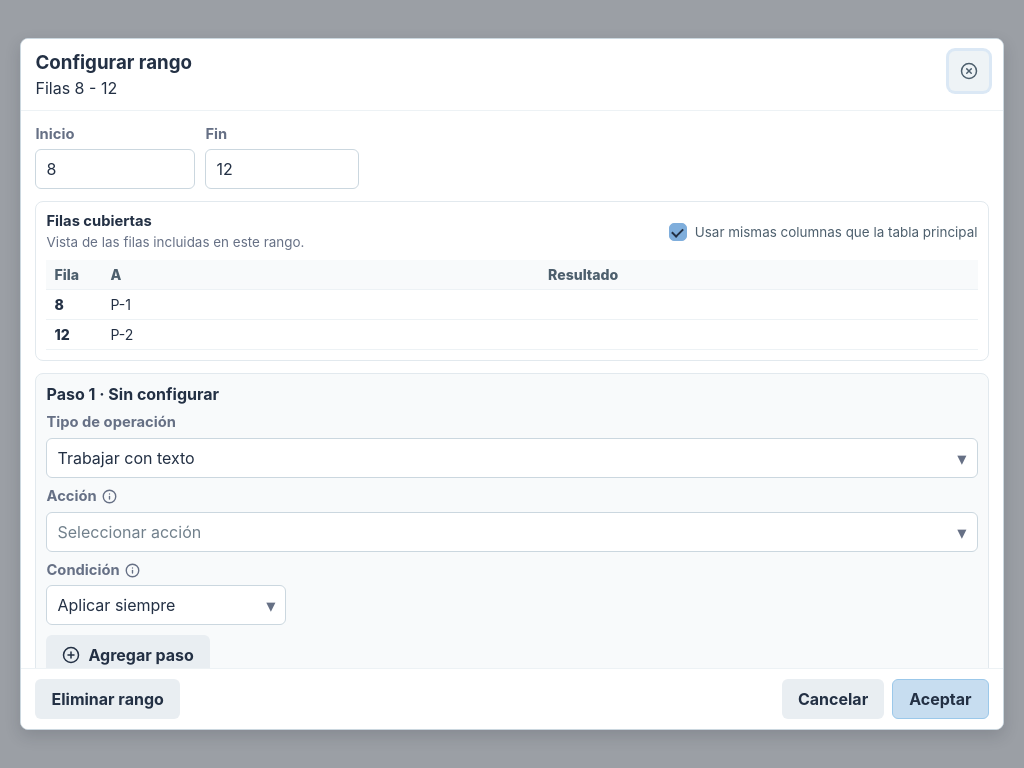
Test case: ManualRangeAdvancedRangeModal validation › keeps texto encontrado as the visible action after selecting a found range value
Click the button "Seleccionar acción ▾" at (129, 532), box [46,512,978,552]
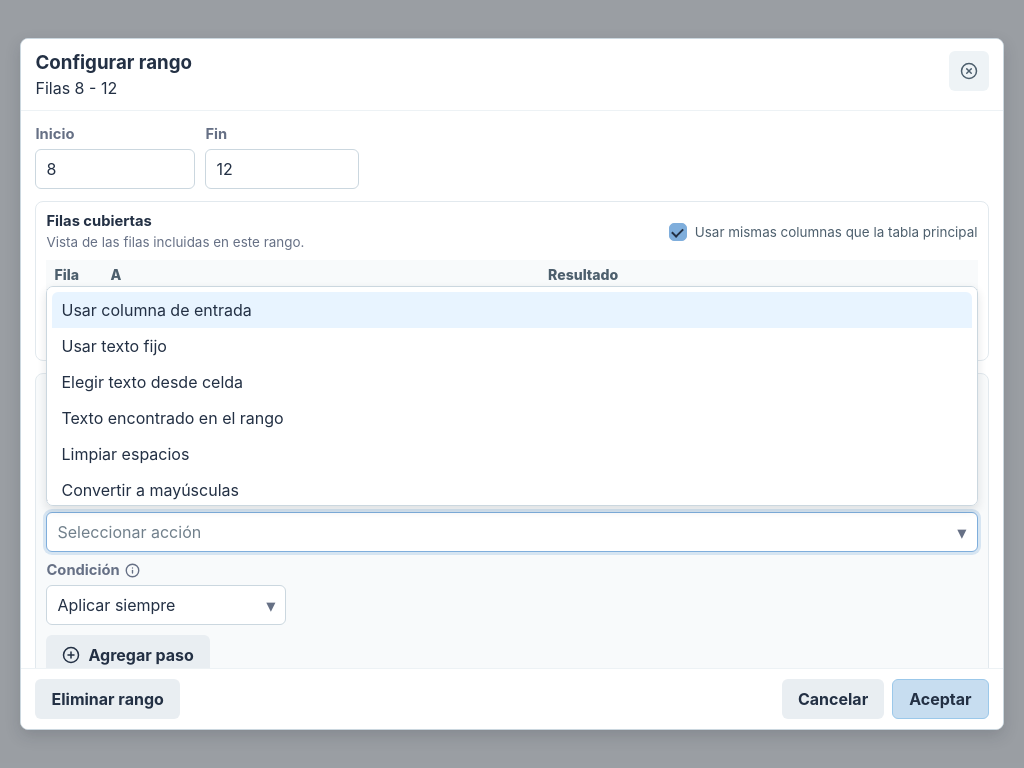
Click the option "Texto encontrado en el rango" at (173, 418), box [52,400,972,436]
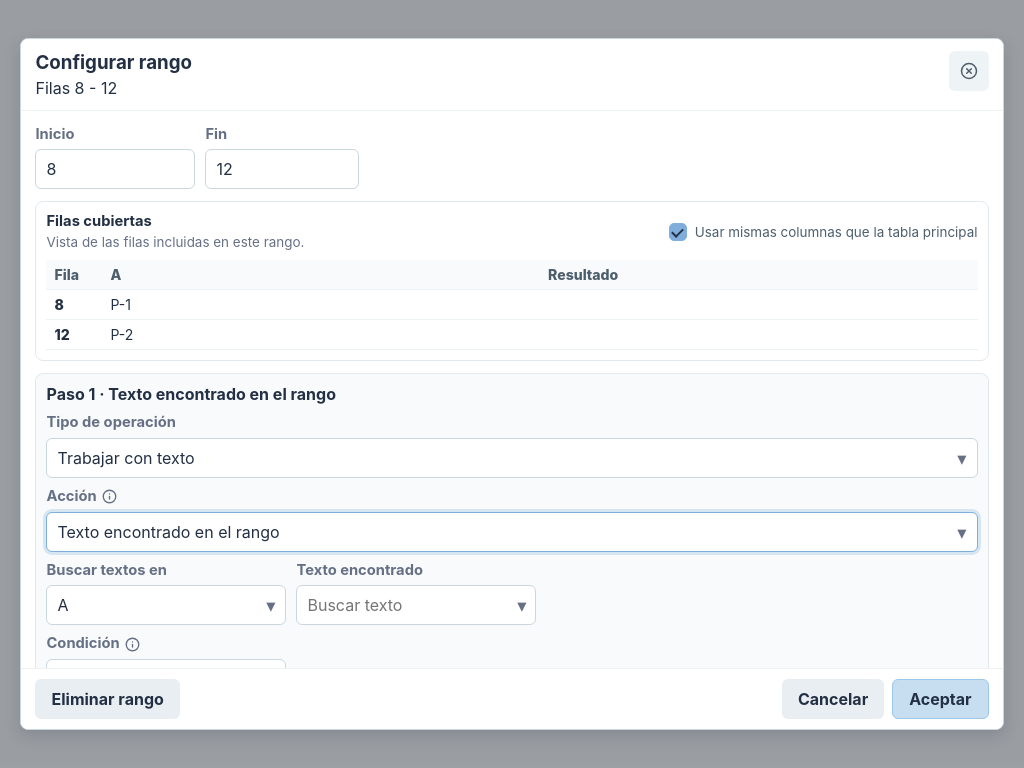
Click the dropdown labelled "Texto encontrado" at (416, 605), box [296,585,536,625]
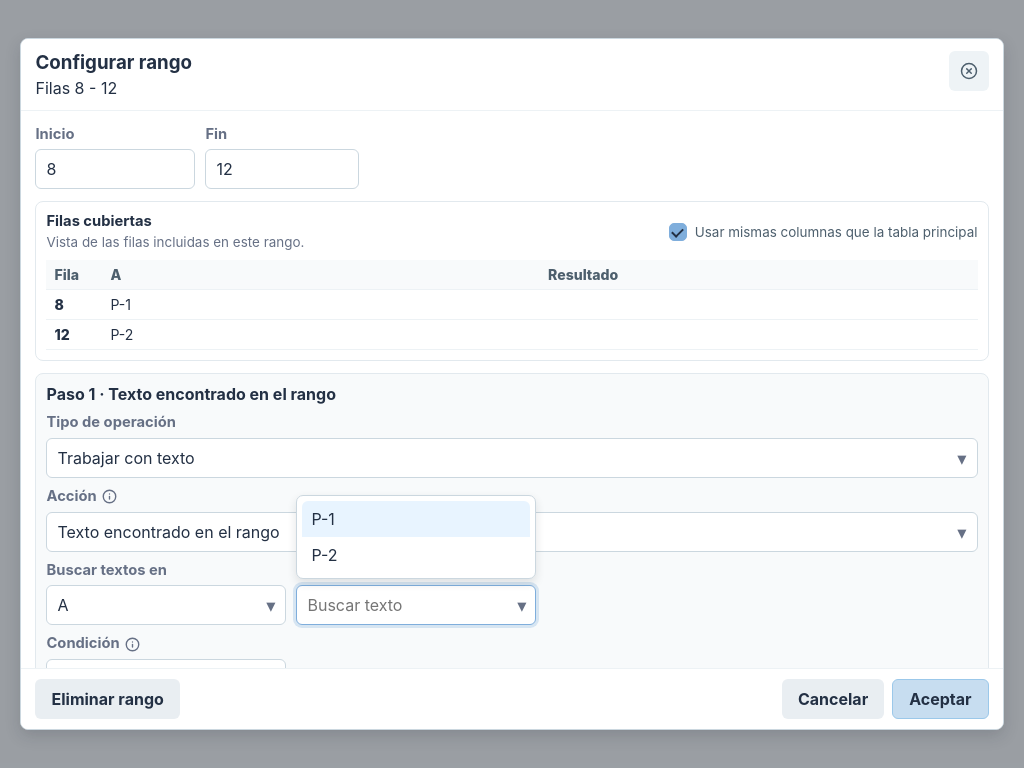
Click the option "P-1" at (416, 519), box [302,501,530,537]
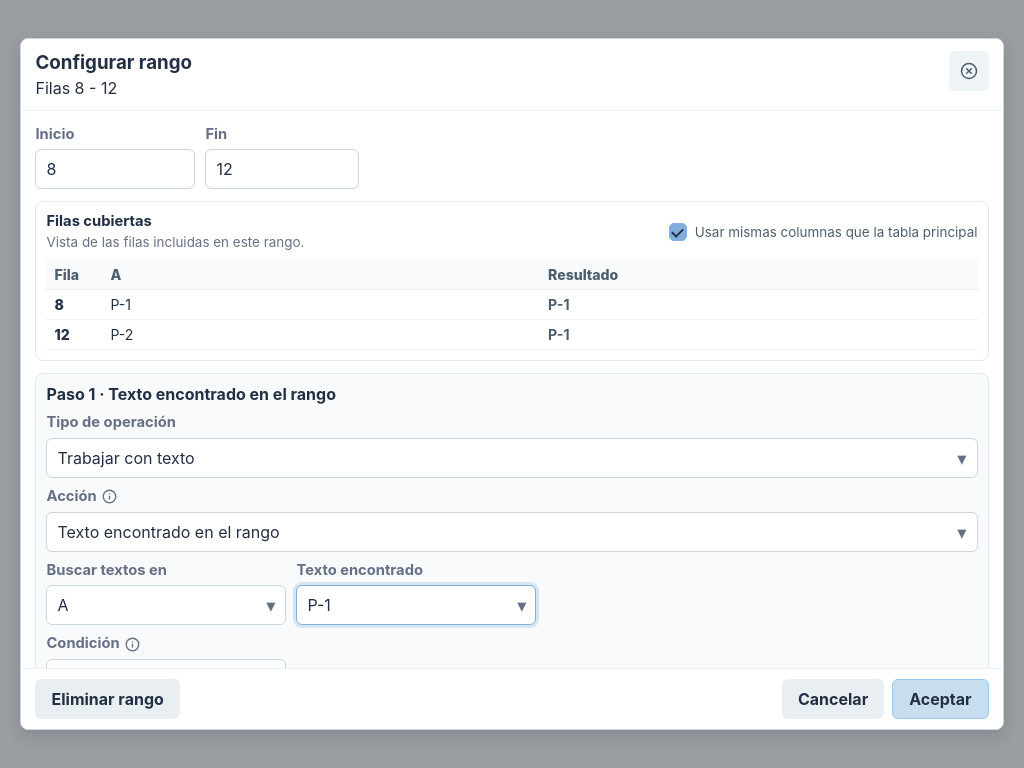
Expected: the option "Acci.n" does not show "Usar texto fijo"
Expected: the button named "Acci.n" shows "Texto encontrado en el rango", [46,512,978,552]
Expected: the dropdown showing "P-1" is shown, [296,585,536,625]
